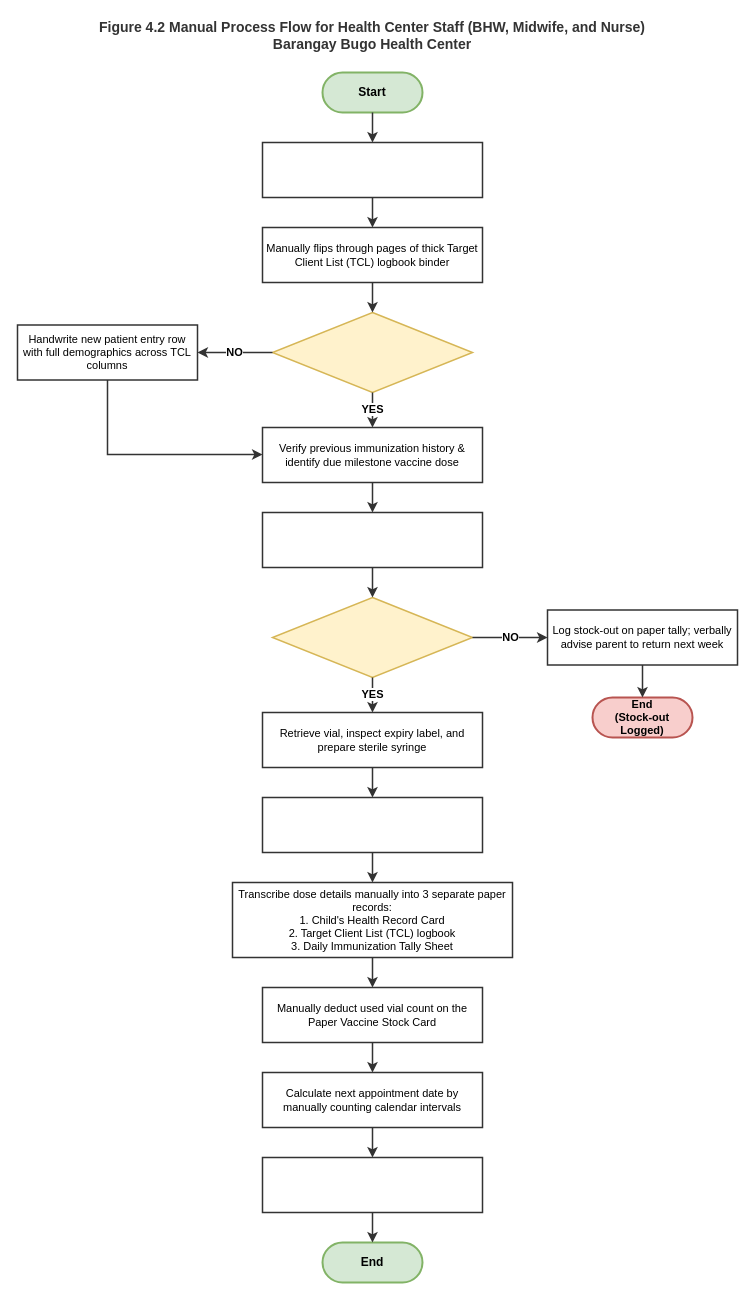
Image size: 756x1300. Some labels were removed from this diagram. The centre of each missing label's shape, as x and y in pixels:
"Are required vaccine vials available in cold storage?" goes at point (372, 637).
"BHW receives walk-in parent and collects physical health record card" goes at point (372, 169).
"Is patient record found in the TCL binder?" goes at point (372, 352).
"Nurse / Midwife administers vaccine dose to the pediatric patient" goes at point (372, 824).
"Return paper card to parent and manually file TCL binder back in cabinet" goes at point (372, 1184).
"Staff physically inspects refrigerator stock and checks paper stock card" goes at point (372, 539).
